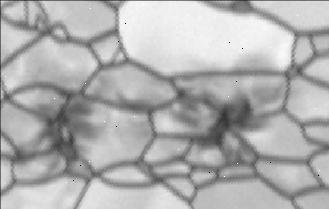good_void: (172, 77, 282, 175), (6, 81, 113, 178)
